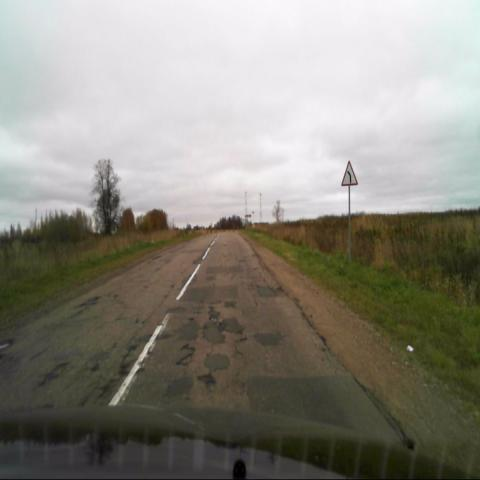1_11_1: (342, 160, 358, 187)
